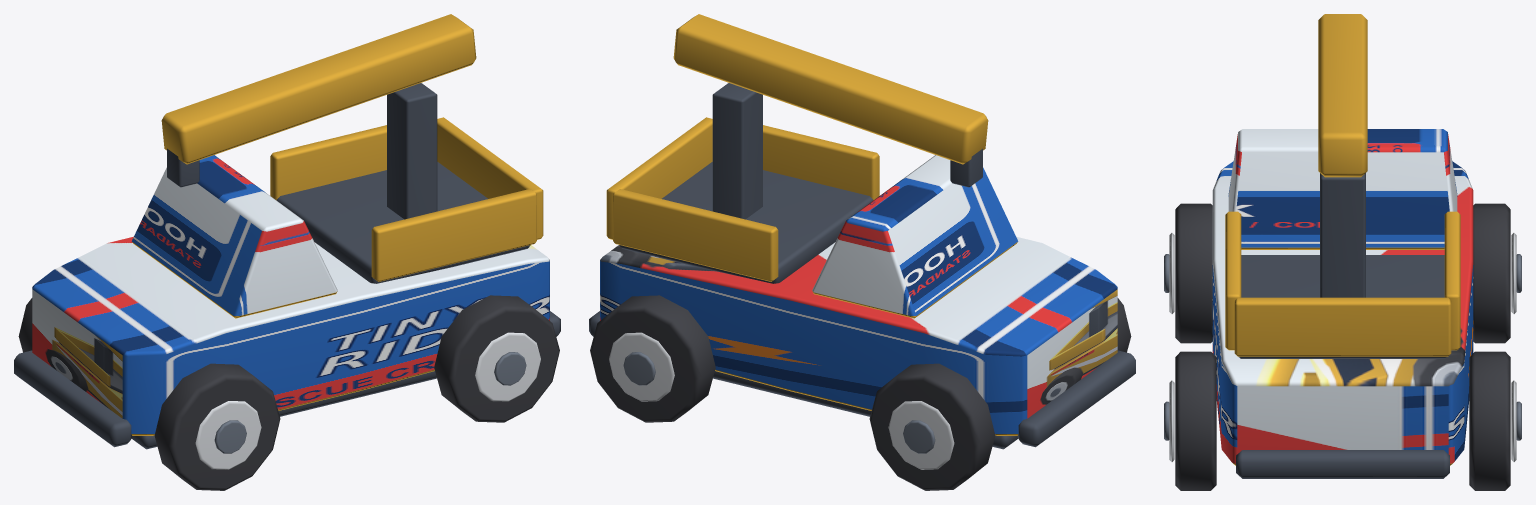
3 renders of one model, left to right at view 1: azimuth 30°, elevation 25°; view 2: azimuth 150°, elevation 25°; view 3: azimuth 270°, elevation 25°, orthographic. The views are drawn at different scales.
Visible parts, largest first — view 1: RC-04_connected_shell, RC-04_cabin, boom, cargo side, Tire, Tire.002, cargo floor, boom pillar, cargo side.001, cargo tail, front bumper, Rim (+5 smaller); view 2: RC-04_connected_shell, RC-04_cabin, boom, cargo side.001, Tire.001, Tire.003, cargo floor, boom pillar, cargo side, cargo tail, front bumper, Rim.001 (+5 smaller); view 3: RC-04_connected_shell, RC-04_cabin, cargo tail, boom, cargo floor, rear bumper, Tire.002, Tire.003, boom pillar, Tire, Tire.001, cargo side (+5 smaller).
Boxes of the visible parts, <box> form: RC-04_connected_shell: <box>32,236,549,435</box>; RC-04_cabin: <box>131,155,337,318</box>; boom: <box>161,14,476,164</box>; cargo side: <box>371,189,536,281</box>; Tire: <box>154,363,280,490</box>; Tire.002: <box>434,295,559,422</box>; cargo floor: <box>276,162,530,283</box>; boom pillar: <box>387,83,437,219</box>; cargo side.001: <box>270,125,386,200</box>; cargo tail: <box>437,117,543,239</box>; front bumper: <box>14,350,132,447</box>; Rim: <box>195,401,261,469</box>; RC-04_connected_shell: <box>600,236,1117,435</box>; RC-04_cabin: <box>812,155,1018,318</box>; boom: <box>673,14,988,164</box>; cargo side.001: <box>613,189,778,281</box>; Tire.001: <box>869,363,995,490</box>; Tire.003: <box>590,295,715,422</box>; cargo floor: <box>619,162,873,283</box>; boom pillar: <box>712,83,762,219</box>; cargo side: <box>763,125,879,200</box>; cargo tail: <box>606,117,712,239</box>; front bumper: <box>1017,350,1135,447</box>; Rim.001: <box>888,401,954,469</box>; RC-04_connected_shell: <box>1212,161,1473,465</box>; RC-04_cabin: <box>1228,129,1457,249</box>; cargo tail: <box>1234,297,1451,356</box>; boom: <box>1318,14,1367,177</box>; cargo floor: <box>1238,255,1447,358</box>; rear bumper: <box>1236,450,1449,478</box>; Tire.002: <box>1175,351,1216,490</box>; Tire.003: <box>1469,351,1510,490</box>; boom pillar: <box>1320,173,1365,297</box>; Tire: <box>1175,203,1212,343</box>; Tire.001: <box>1473,203,1510,343</box>; cargo side: <box>1225,211,1241,350</box>.
Size of the model in its own units: 356 by 256 by 225.
